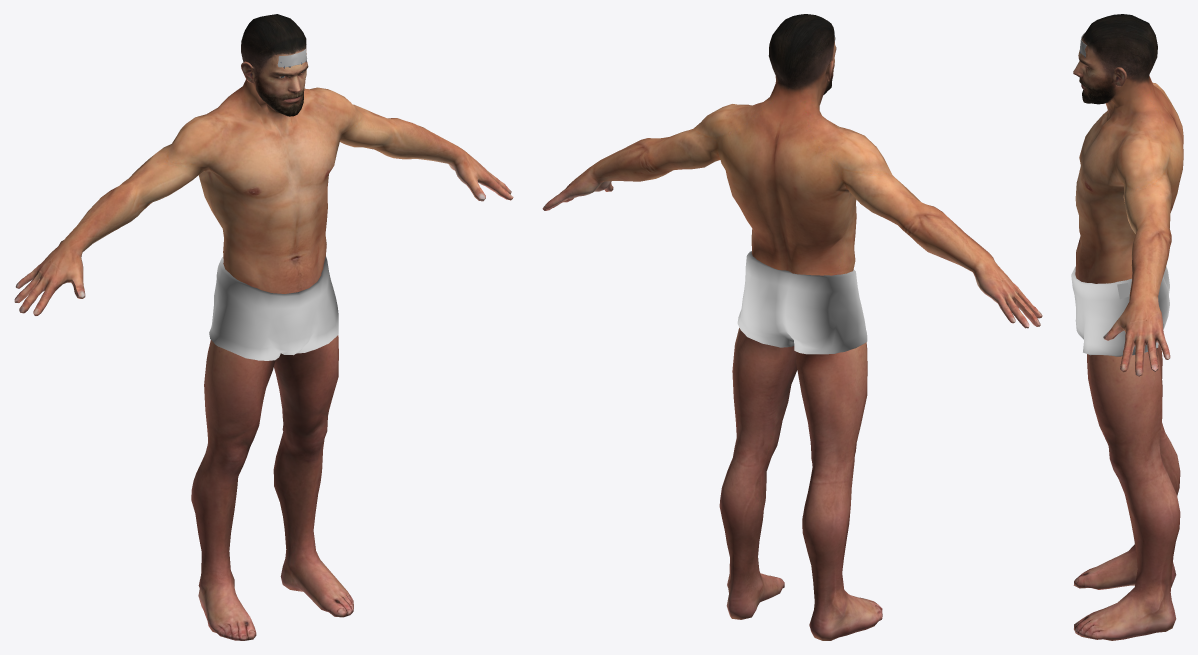
Rendered from exercise_man_sweat.fbx.
The picture shows the model from 3 angles, left to right: view 1: azimuth 30°, elevation 25°; view 2: azimuth 150°, elevation 25°; view 3: azimuth 270°, elevation 25°; orthographic projection.
Parts seen in each view (by area): view 1: polySurface8, new_pant; view 2: polySurface8, new_pant; view 3: polySurface8, new_pant.
Boxes of the visible parts, <box> form: polySurface8: <box>14,14,513,640</box>; new_pant: <box>209,256,338,360</box>; polySurface8: <box>542,14,1042,640</box>; new_pant: <box>737,251,867,354</box>; polySurface8: <box>1073,14,1183,640</box>; new_pant: <box>1071,266,1169,356</box>.
Bounding box in the file's own units: 160 × 185 × 31.78.
